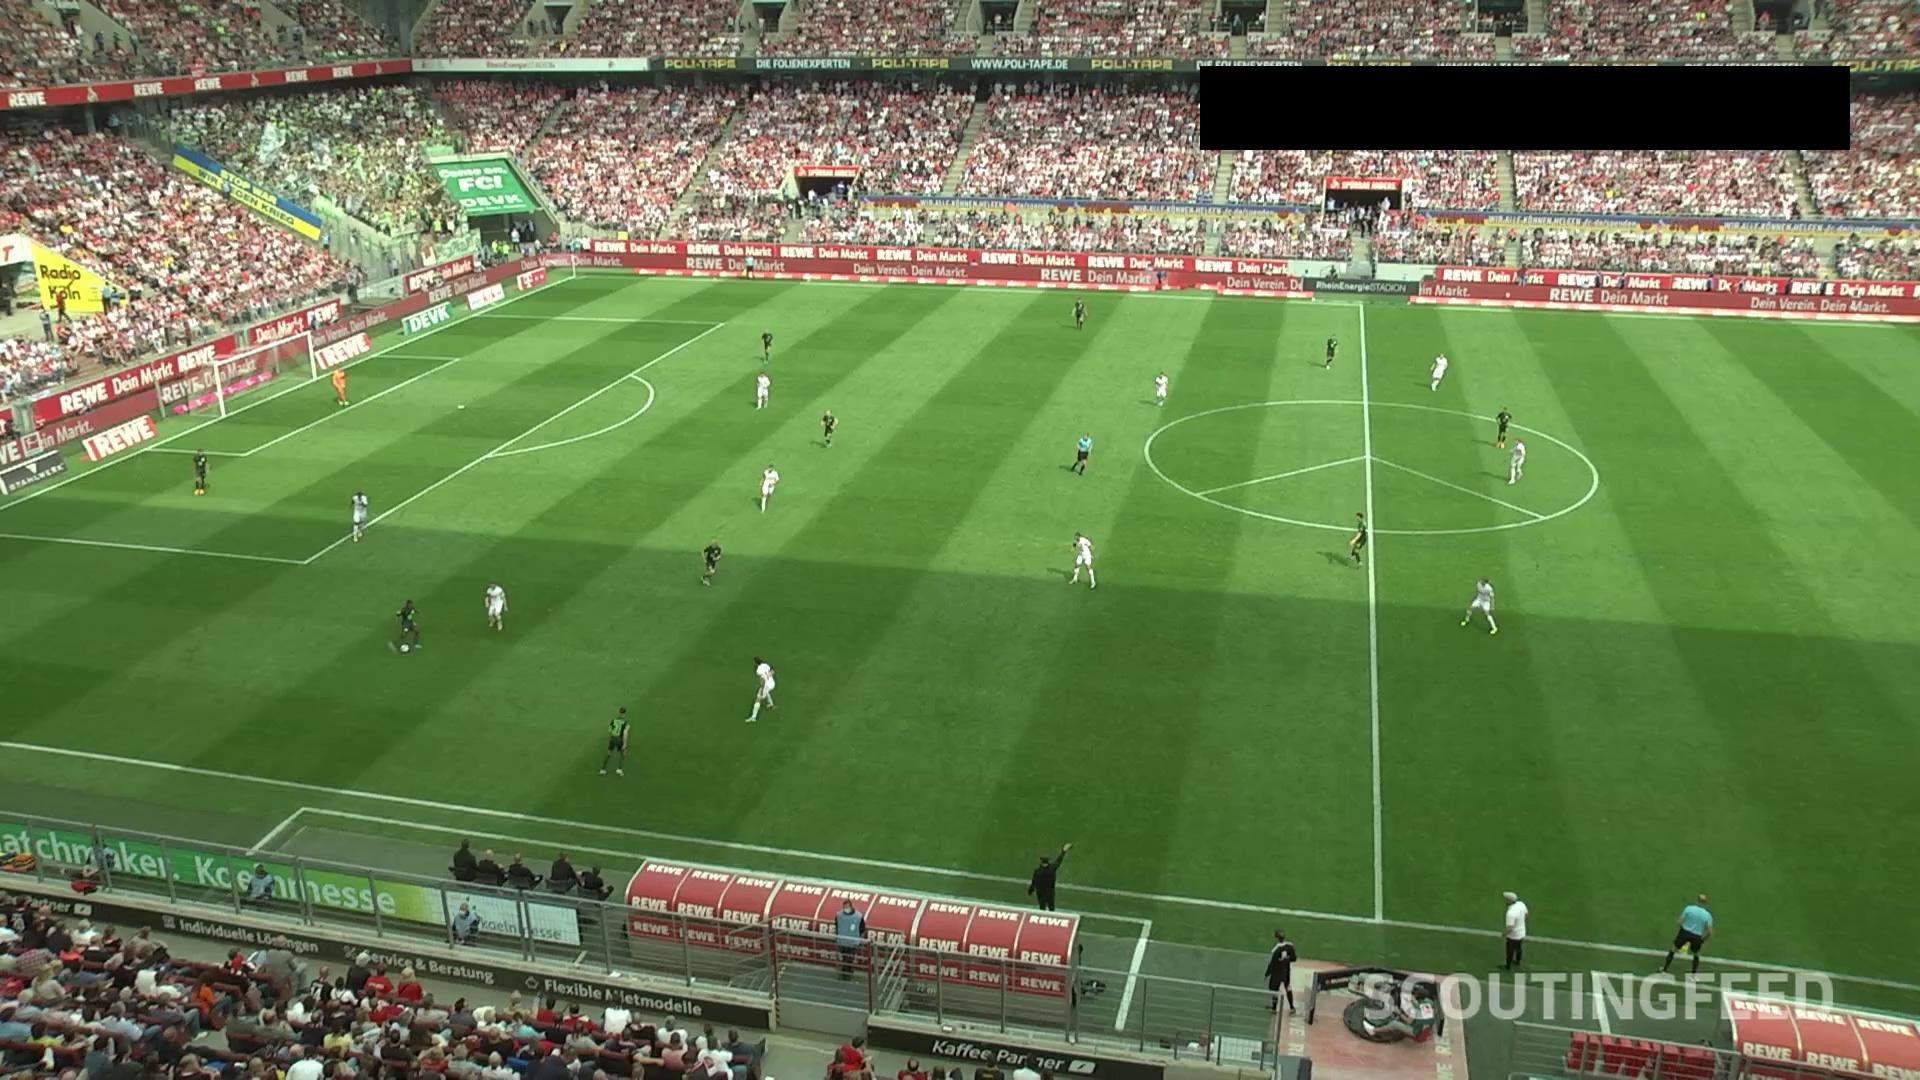Location-of-ball: (392, 632, 427, 662)
